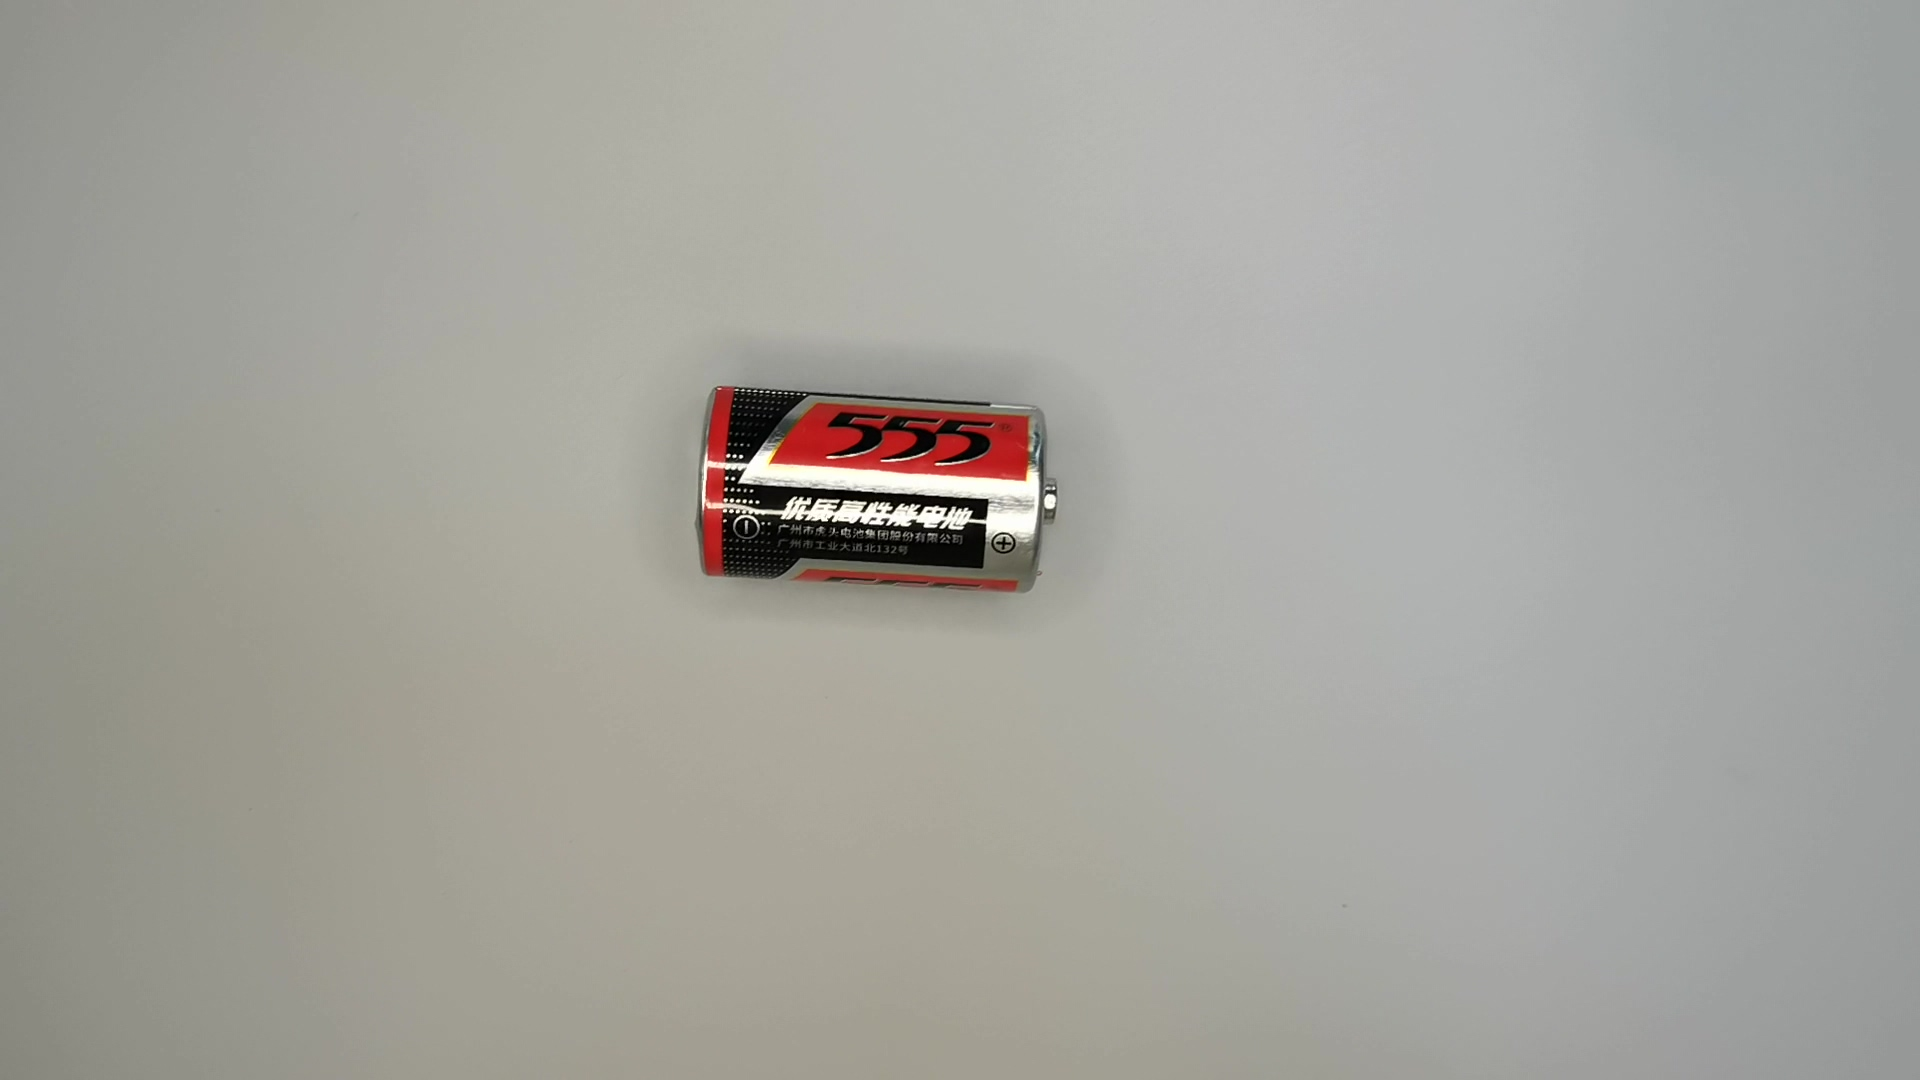battery: (698, 380, 1065, 600)
